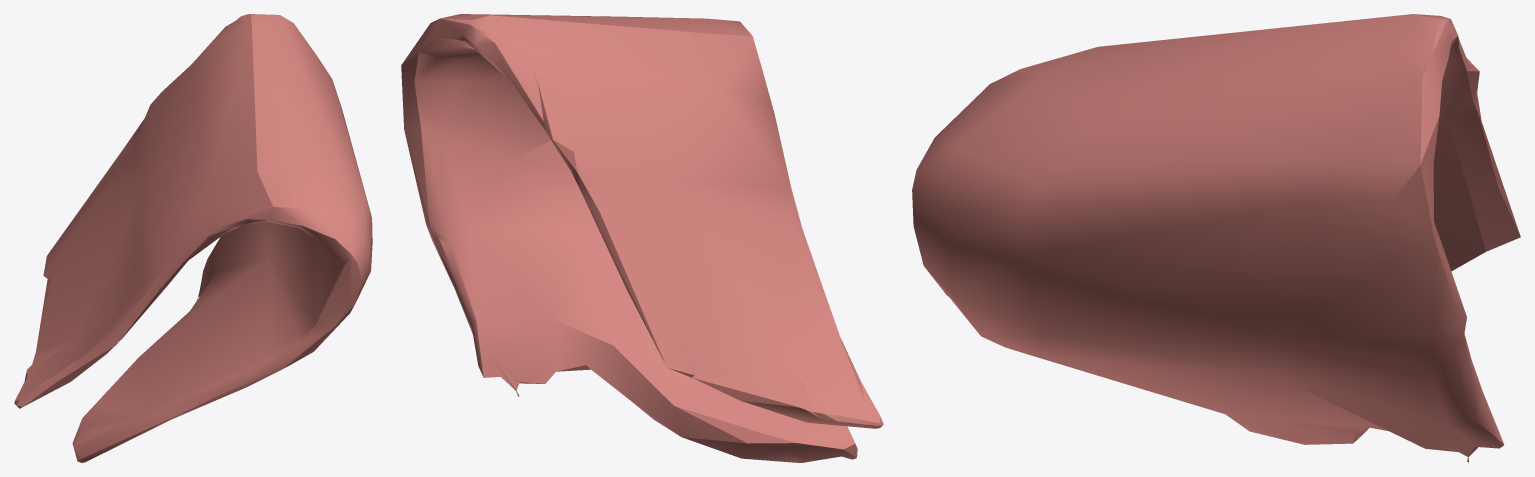
Rendered from fma264840_fj704.glb.
3 views of the same model, side by side, from view 1: azimuth 30°, elevation 25°; view 2: azimuth 150°, elevation 25°; view 3: azimuth 270°, elevation 25° (orthographic). The views are drawn at different scales.
Parts seen in each view (by area): view 1: FMA264840_FJ704; view 2: FMA264840_FJ704; view 3: FMA264840_FJ704.
Boxes of the visible parts, x1,y1,x2,y2 form: FMA264840_FJ704: (14,14,372,462); FMA264840_FJ704: (401,14,883,462); FMA264840_FJ704: (912,14,1520,462).
Bounding box in the file's own units: 0.00763 × 0.00728 × 0.00689.
